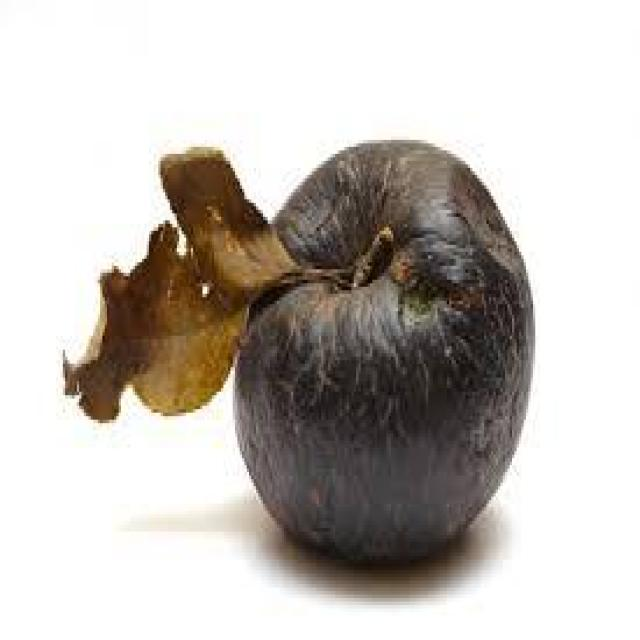organic: (70, 140, 535, 574)
